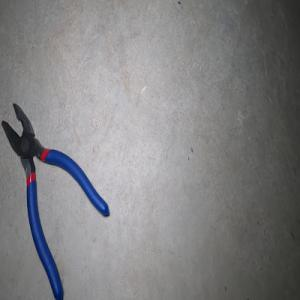Pliers: (1, 102, 109, 300)
